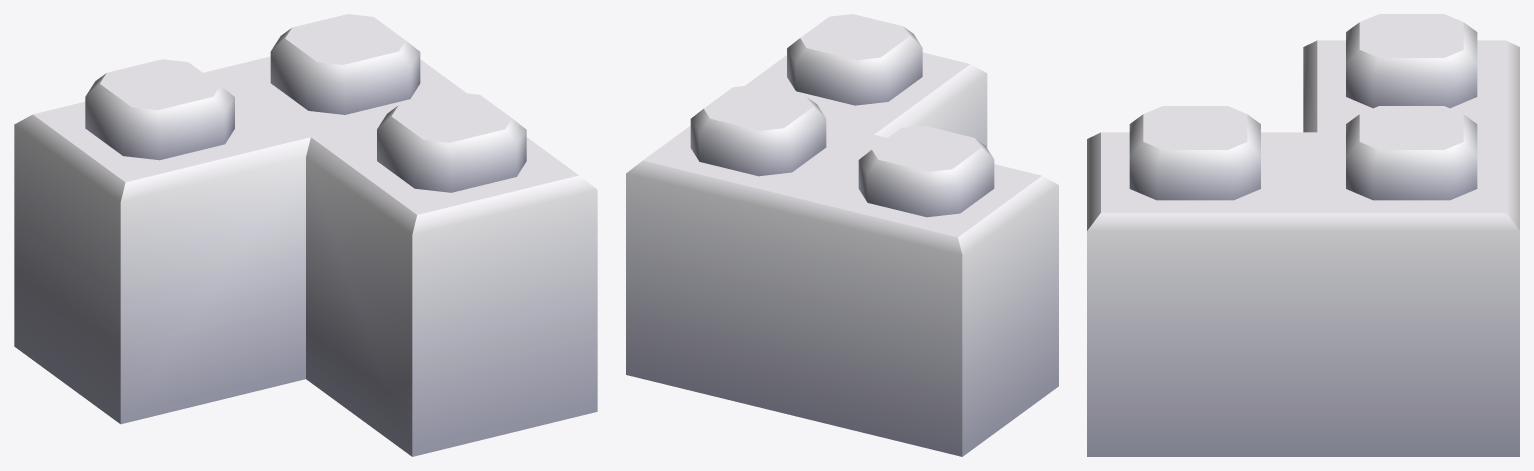
File: kenney-brick-bevel-hq-brick-corner.glb
3 views of the same model, side by side, from view 1: azimuth 30°, elevation 25°; view 2: azimuth 150°, elevation 25°; view 3: azimuth 270°, elevation 25° (orthographic). The views are drawn at different scales.
Parts seen in each view (by area): view 1: bevel-hq-brick-corner; view 2: bevel-hq-brick-corner; view 3: bevel-hq-brick-corner.
Part boxes in pixels (bbox=[...]): bevel-hq-brick-corner: bbox=[14, 14, 597, 456]; bevel-hq-brick-corner: bbox=[626, 14, 1058, 456]; bevel-hq-brick-corner: bbox=[1087, 14, 1519, 456].
Bounding box in the file's own units: 0.159 × 0.114 × 0.158.
Materials: 1 (1 with a texture image).
